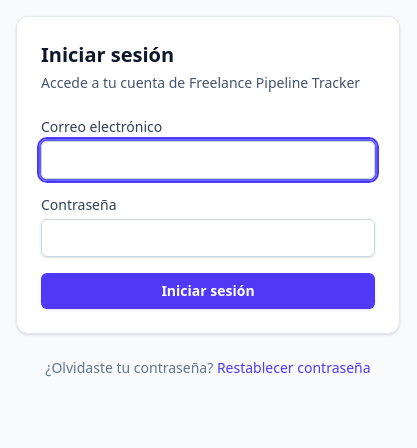
Test: Página /login — wiring real por defecto (F05-T01) › muestra el mensaje del servidor en errores distintos de 401
Type "usuaria@example.com" into the field labelled "Correo electrónico" at point(208, 160), box [41,141,375,179]
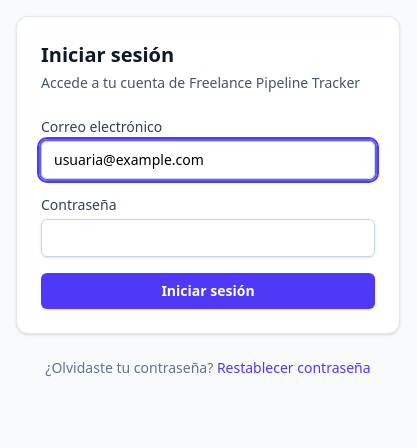
Type "Segura1234" into the password field labelled "Contraseña" at point(208, 238), box [41,219,375,257]
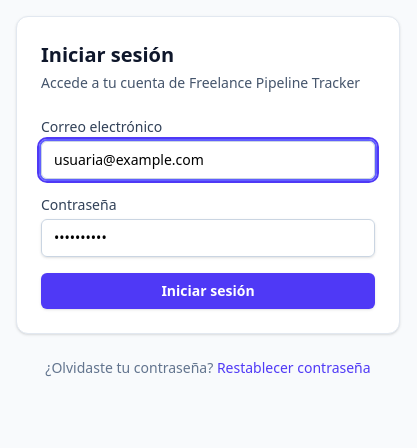
Click the button "Iniciar sesión" at point(208, 291), box [41,273,375,309]
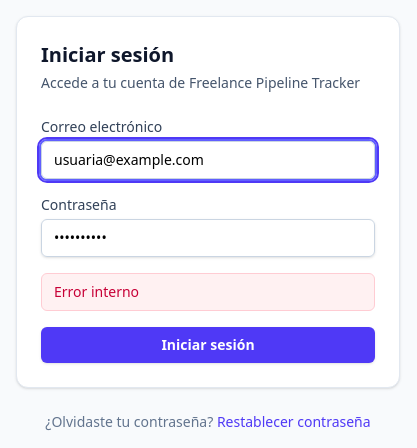
Expected: the text "Error interno" is shown, [41,273,375,311]
